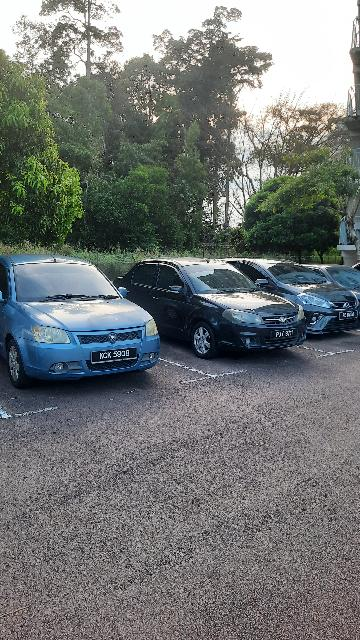License_Plate: (85, 348, 144, 365), (268, 323, 304, 343)
car: (114, 250, 360, 356), (2, 252, 161, 385)
